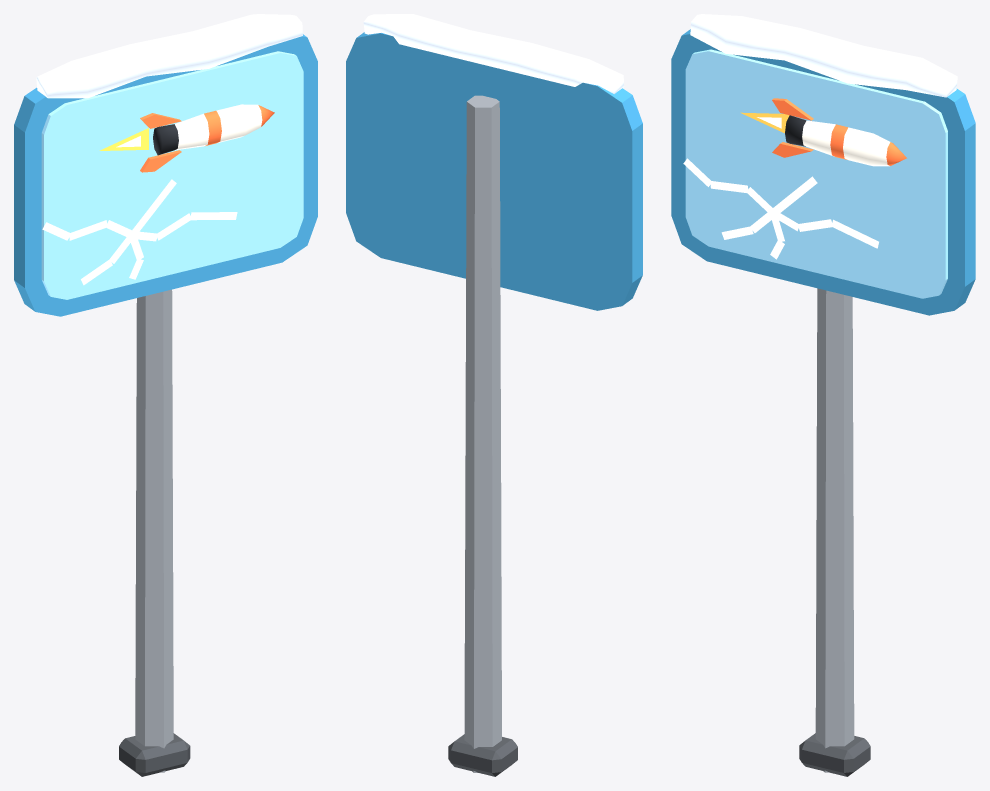
File: sign-thin-ice.glb
3 views of the same model, side by side, from view 1: azimuth 30°, elevation 25°; view 2: azimuth 150°, elevation 25°; view 3: azimuth 330°, elevation 25° (orthographic). The views are drawn at different scales.
Parts seen in each view (by area): view 1: sign-thin-ice; view 2: sign-thin-ice; view 3: sign-thin-ice.
Boxes of the visible parts, x1,y1,x2,y2 form: sign-thin-ice: (14, 14, 317, 776); sign-thin-ice: (346, 14, 642, 776); sign-thin-ice: (671, 14, 975, 776).
Bounding box in the file's own units: 1.4 × 3.37 × 0.3465.
